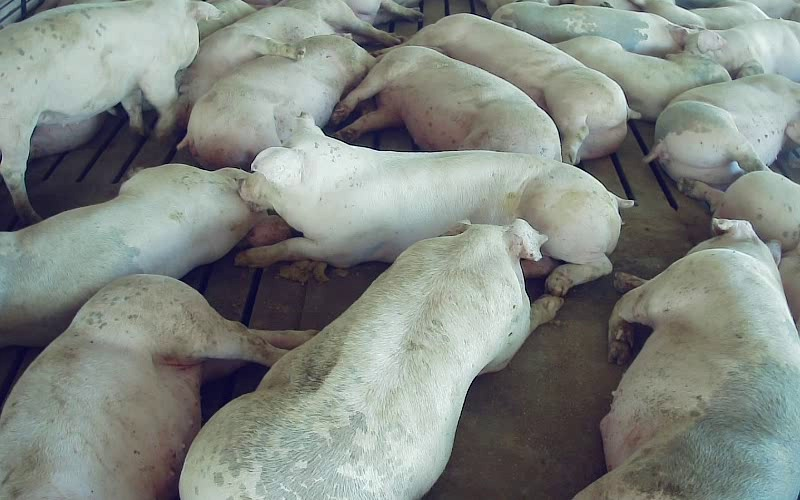pig: (181, 219, 561, 496), (236, 116, 632, 295), (0, 275, 313, 499), (575, 219, 799, 499), (0, 164, 290, 346), (176, 0, 399, 126), (331, 46, 560, 159), (181, 35, 374, 168), (644, 74, 799, 186), (555, 36, 730, 120), (492, 2, 688, 57), (678, 171, 799, 250), (685, 19, 799, 81)
